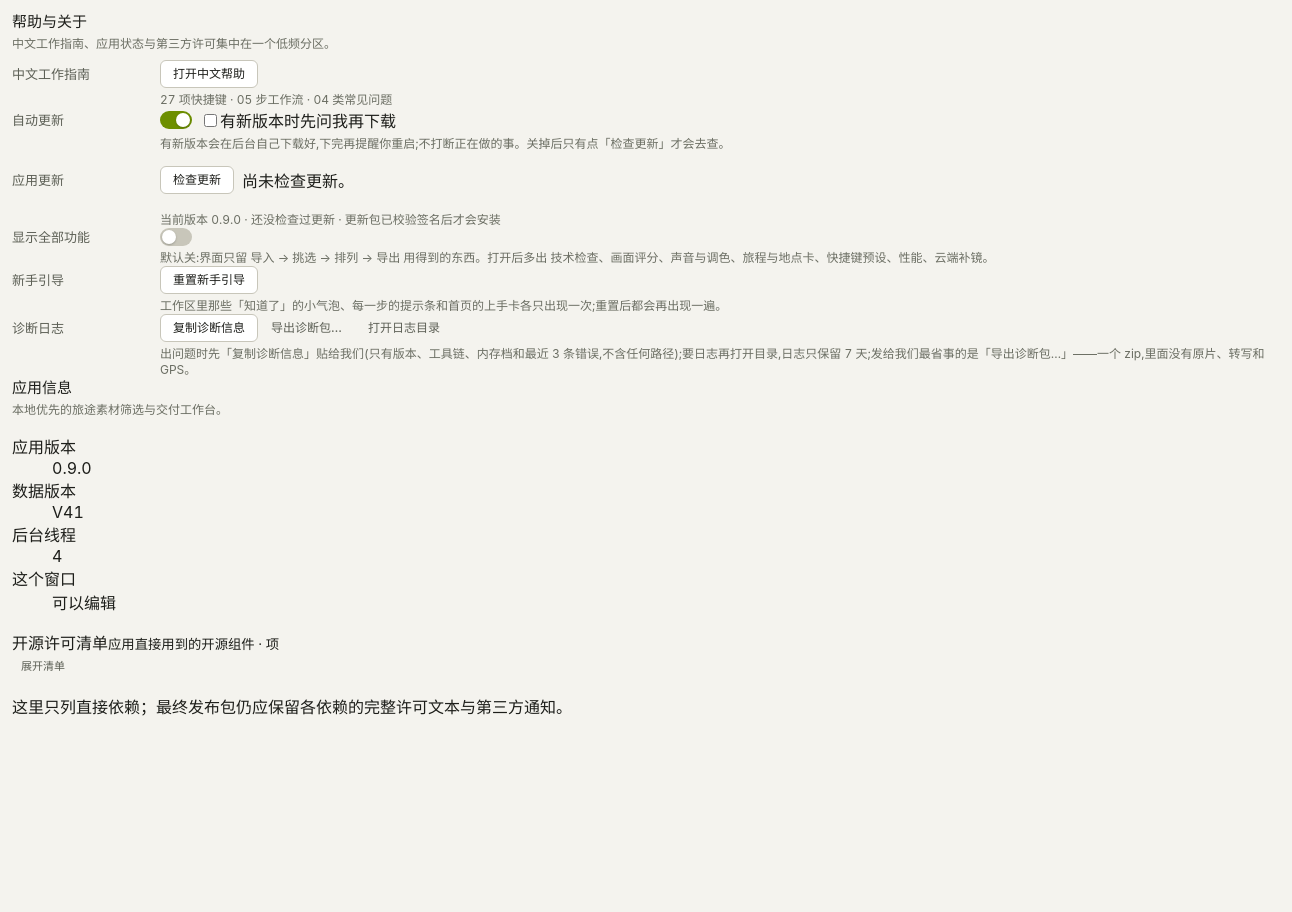
Scenario: M-04 导出诊断包 › 成功后 toast 要把「里面没有什么」说出来
Click the button "导出诊断包…" at {"x": 306, "y": 328}, box [258,314,355,342]
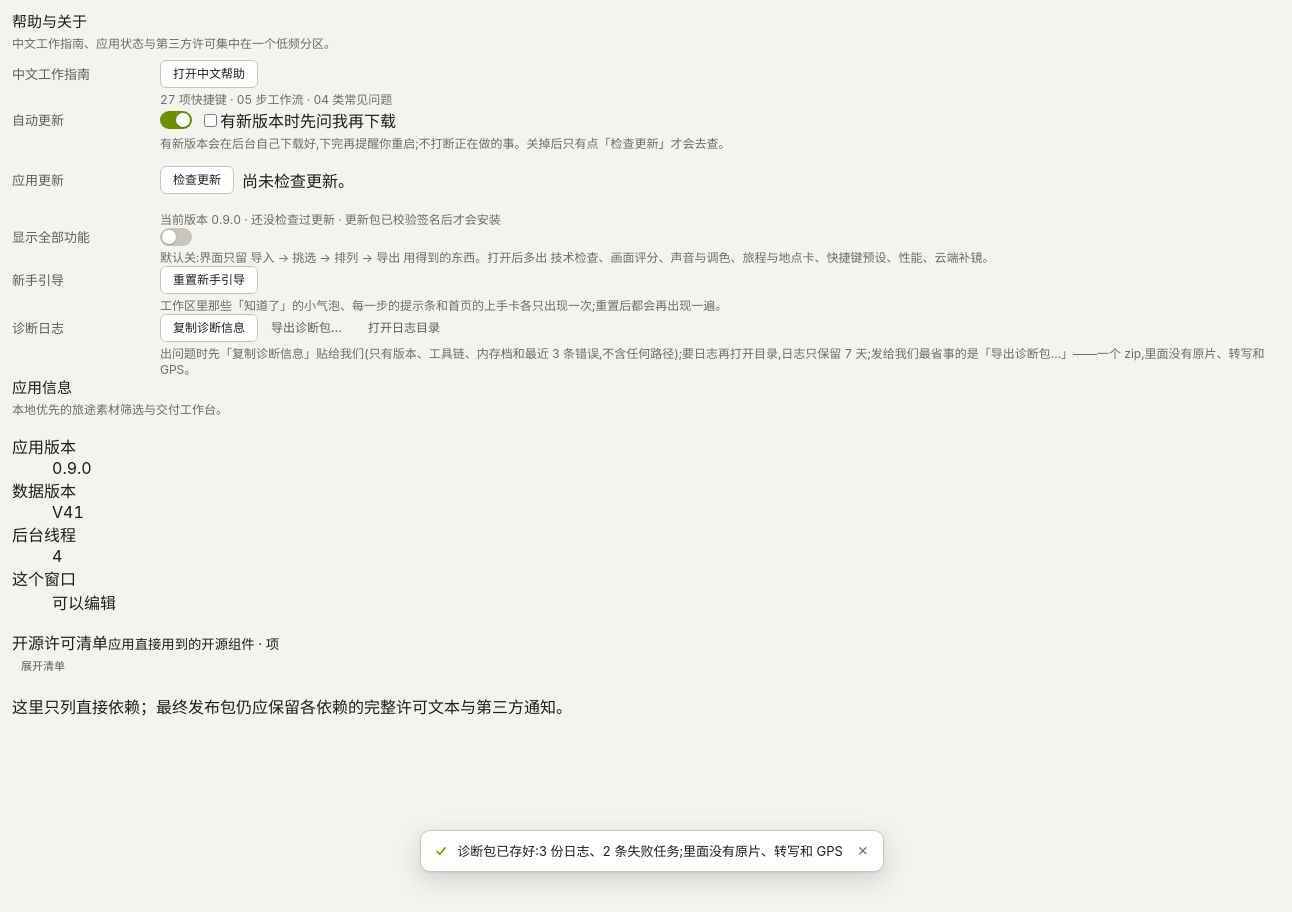
Check: the message shows "3 份日志", box [457,843,843,859]
Check: the message shows "没有原片、转写和 GPS", box [457,843,843,859]
